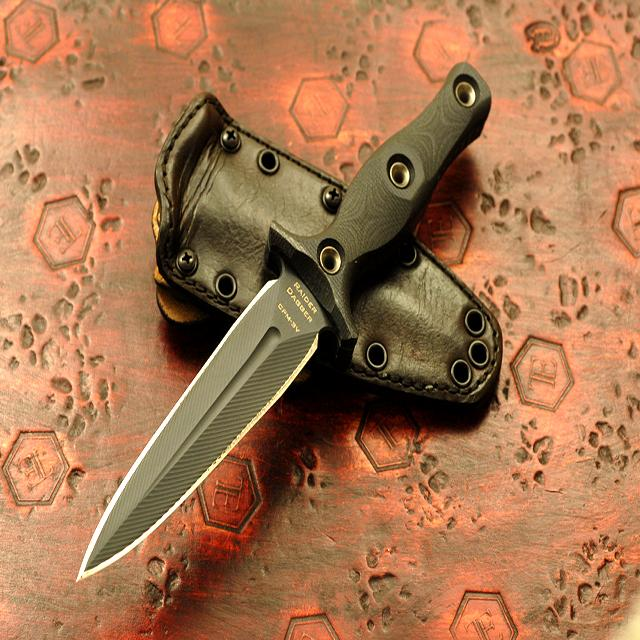short sword: (67, 53, 526, 595)
